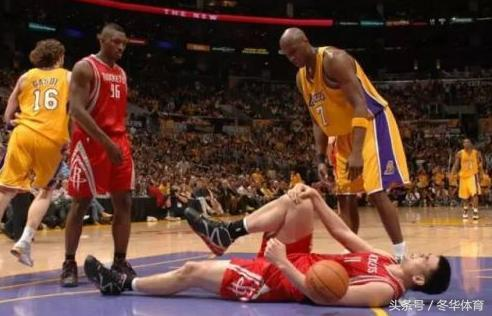bending: (288, 25, 414, 232)
down: (82, 190, 459, 311)
up: (62, 22, 137, 286), (1, 40, 74, 265), (452, 136, 484, 222)
